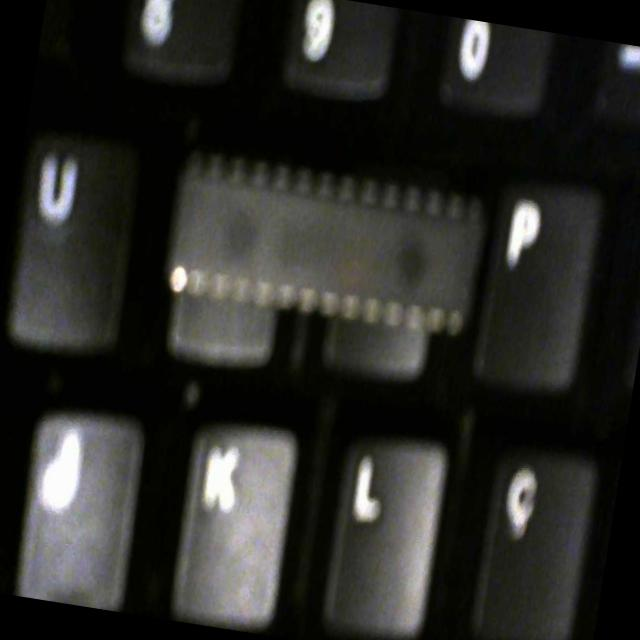atmega: (148, 128, 500, 364)
